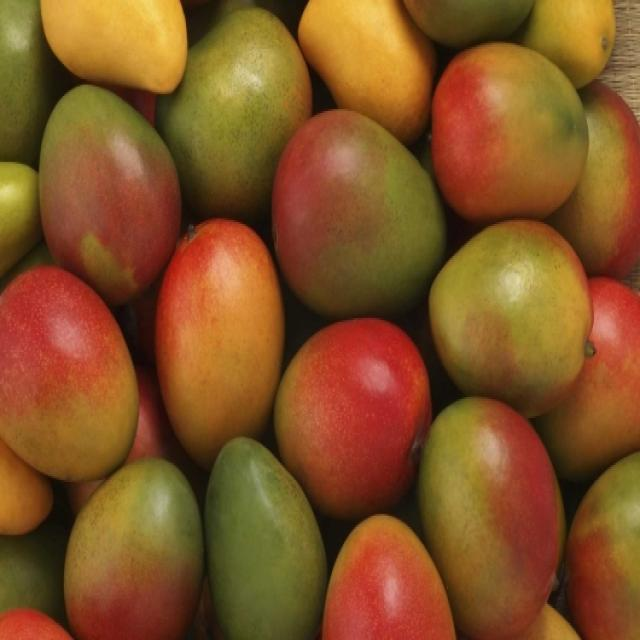mango: (274, 110, 442, 316), (419, 399, 562, 636), (272, 314, 437, 507), (39, 86, 181, 305), (160, 208, 282, 452), (1, 265, 136, 478), (205, 438, 328, 638)
